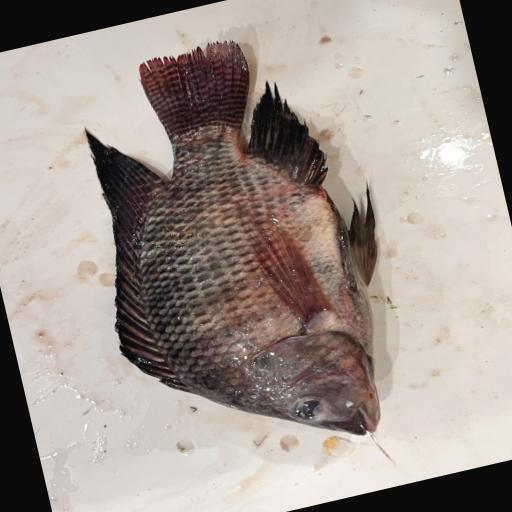Tilapia: (56, 14, 425, 485)
